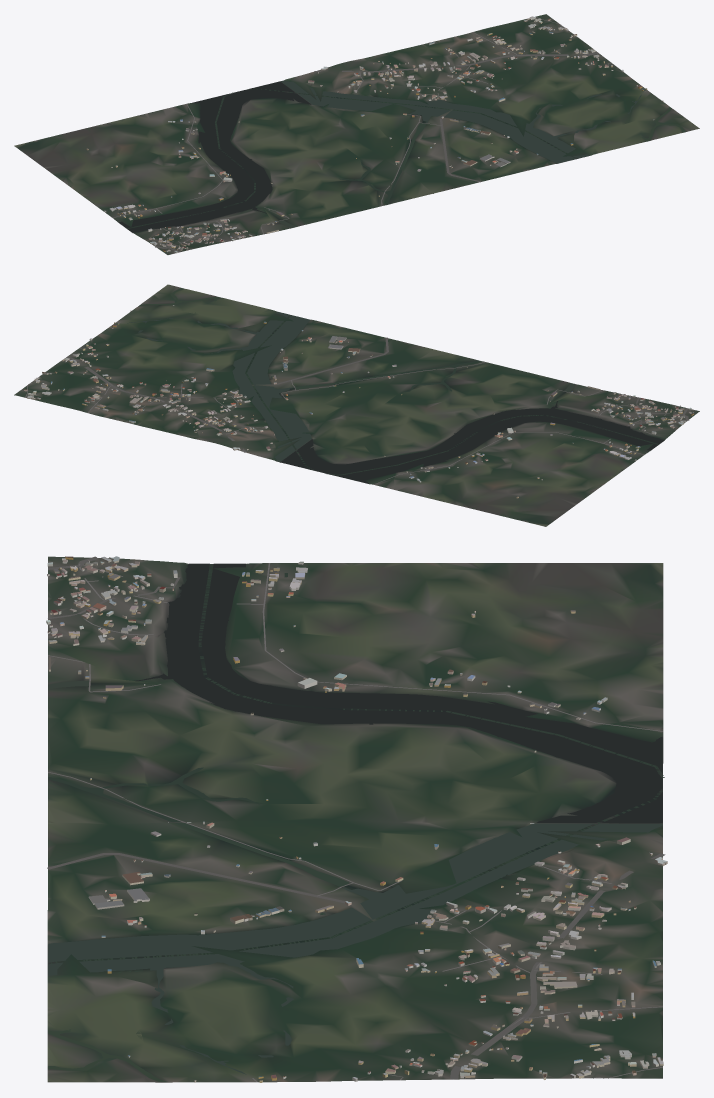
3 views of the same model, one above another, from view 1: azimuth 30°, elevation 25°; view 2: azimuth 150°, elevation 25°; view 3: azimuth 270°, elevation 25° (orthographic). The views are drawn at different scales.
Parts seen in each view (by area): view 1: ground, water, buildings, roads; view 2: ground, water, buildings, roads; view 3: ground, water, buildings, roads.
Part boxes in pixels (<box>): ground: <box>14,14,699,254</box>; water: <box>116,80,685,232</box>; buildings: <box>86,16,663,253</box>; roads: <box>112,16,647,252</box>; ground: <box>14,284,699,526</box>; water: <box>127,288,663,483</box>; buildings: <box>24,305,694,498</box>; roads: <box>25,322,689,484</box>; ground: <box>47,556,663,1082</box>; water: <box>48,563,664,1081</box>; buildings: <box>46,556,667,1082</box>; roads: <box>47,556,665,1082</box>.
Size of the model in its own units: 2812 by 26.61 by 1414.
